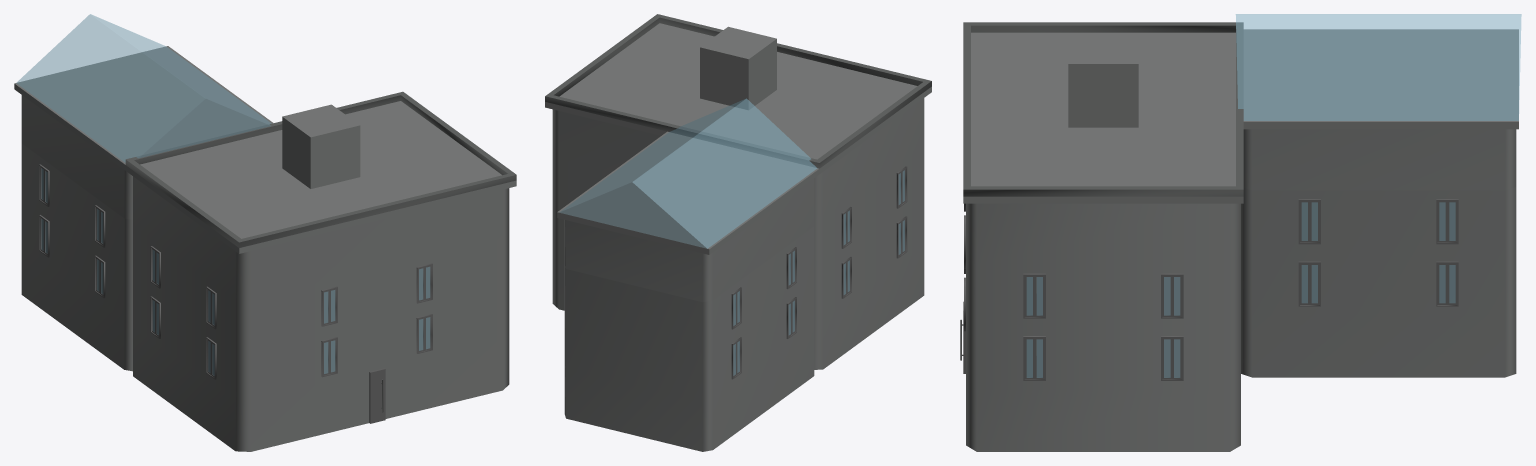
Rendered from Apartment Buildings(2).glb.
The picture shows the model from 3 angles, left to right: view 1: azimuth 30°, elevation 25°; view 2: azimuth 150°, elevation 25°; view 3: azimuth 270°, elevation 25°; orthographic projection. The views are drawn at different scales.
Visible parts, largest first — view 1: Root; view 2: Root; view 3: Root.
Part boxes in pixels (box(x1,y1,x2,y2)): Root: box(14, 14, 516, 451); Root: box(545, 14, 931, 451); Root: box(960, 14, 1521, 451).
Bounding box in the file's own units: 15.46 × 13.81 × 21.91.
